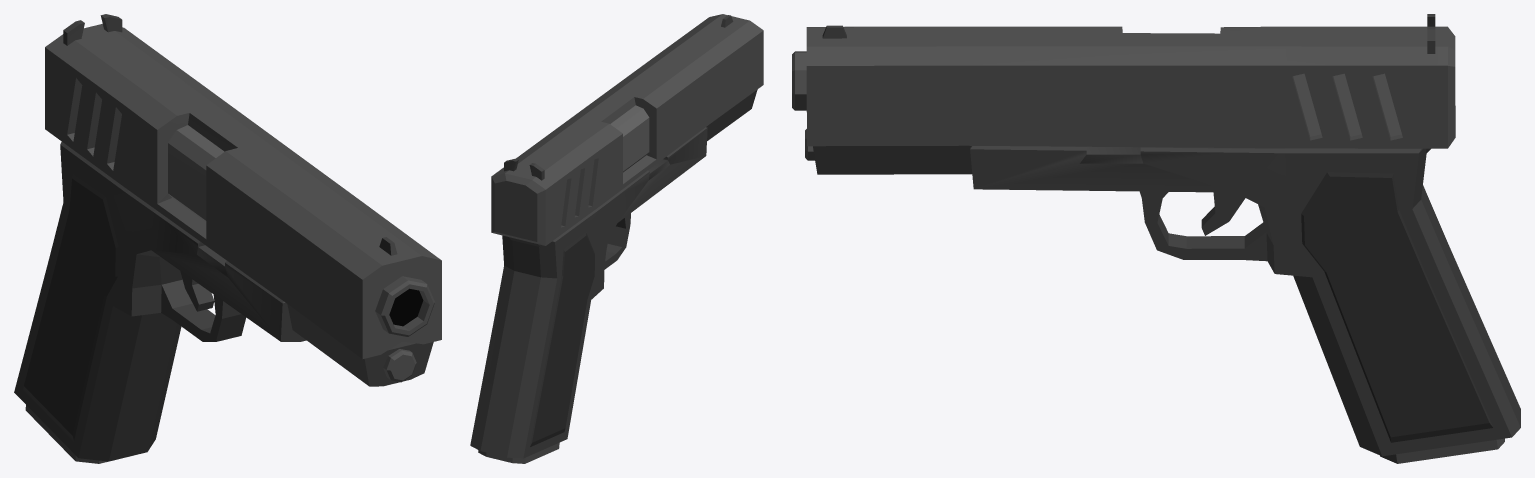
Rendered from Glock.fbx.
3 renders of one model, left to right at view 1: azimuth 30°, elevation 25°; view 2: azimuth 150°, elevation 25°; view 3: azimuth 270°, elevation 25°, orthographic. The views are drawn at different scales.
Parts seen in each view (by area): view 1: Handle, Barrel, Magazine; view 2: Handle, Barrel, Magazine; view 3: Barrel, Handle, Magazine.
Part boxes in pixels (x1,y1,x2,y2): Handle: (14, 125, 434, 461); Barrel: (45, 14, 441, 359); Magazine: (25, 405, 107, 463); Handle: (470, 89, 757, 458); Barrel: (491, 14, 763, 245); Magazine: (478, 442, 559, 463); Barrel: (806, 14, 1455, 148); Handle: (792, 51, 1520, 456); Magazine: (1380, 438, 1504, 463).
Bounding box in the file's own units: 3.32 × 16.65 × 25.85.
